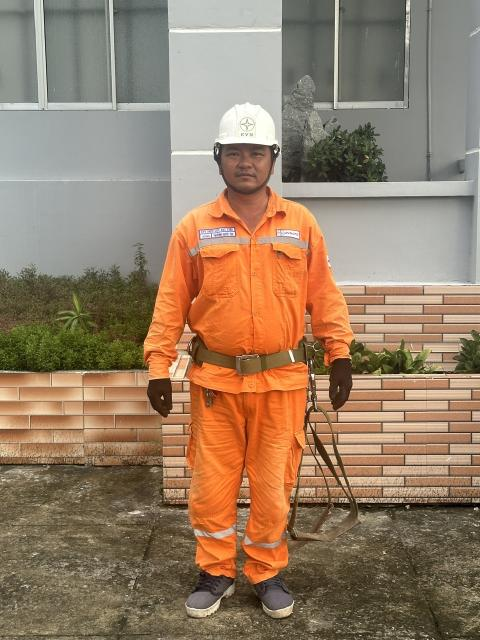gloves: (137, 363, 189, 425), (318, 344, 359, 407)
harness: (167, 328, 323, 377)
helmet: (188, 67, 294, 167)
shoes: (187, 546, 232, 618), (242, 559, 296, 617)
